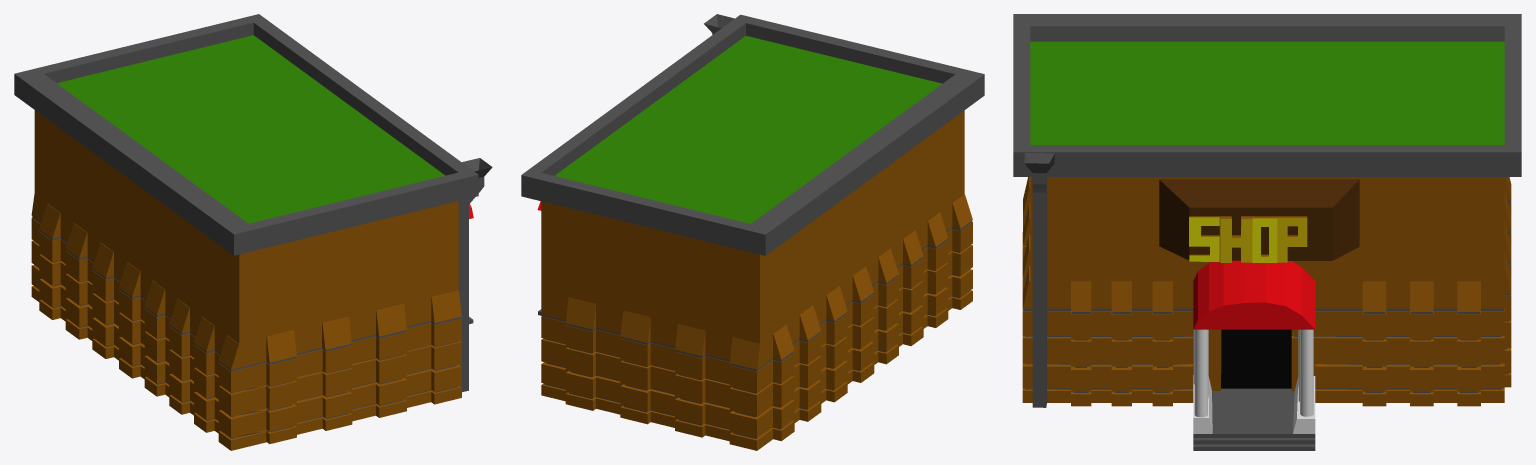
The model's file is shop_1 (1).fbx.
3 views of the same model, side by side, from view 1: azimuth 30°, elevation 25°; view 2: azimuth 150°, elevation 25°; view 3: azimuth 270°, elevation 25° (orthographic). The views are drawn at different scales.
Visible parts, largest first — view 1: Cube; view 2: Cube; view 3: Cube.
Boxes of the visible parts, x1=… form: Cube: x1=14, y1=14, x2=492, y2=450; Cube: x1=521, y1=14, x2=984, y2=450; Cube: x1=1013, y1=14, x2=1521, y2=450.
Size of the model in its own units: 1437 by 964 by 1722.
